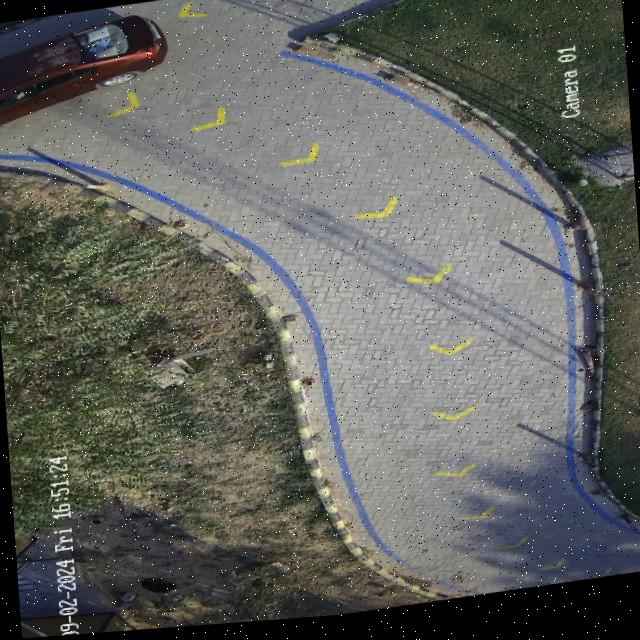car: (0, 16, 166, 124)
